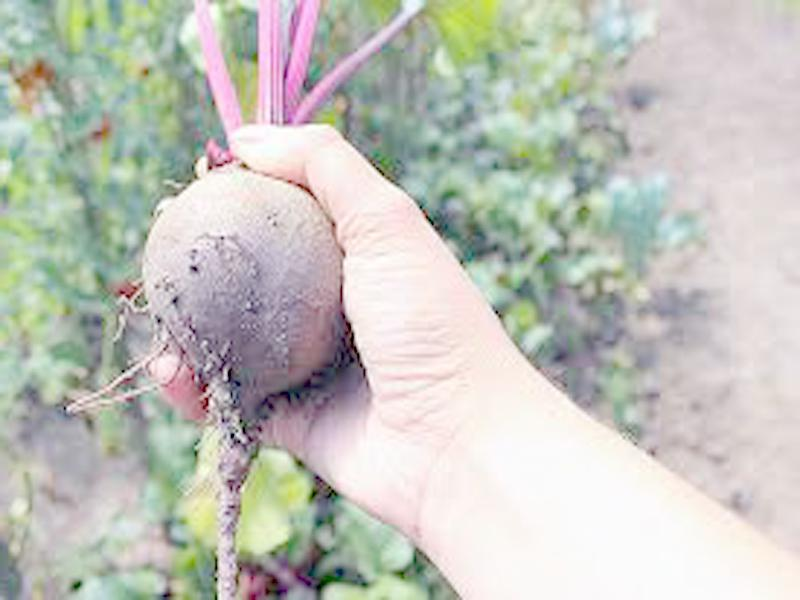Beet: (63, 3, 427, 600)
